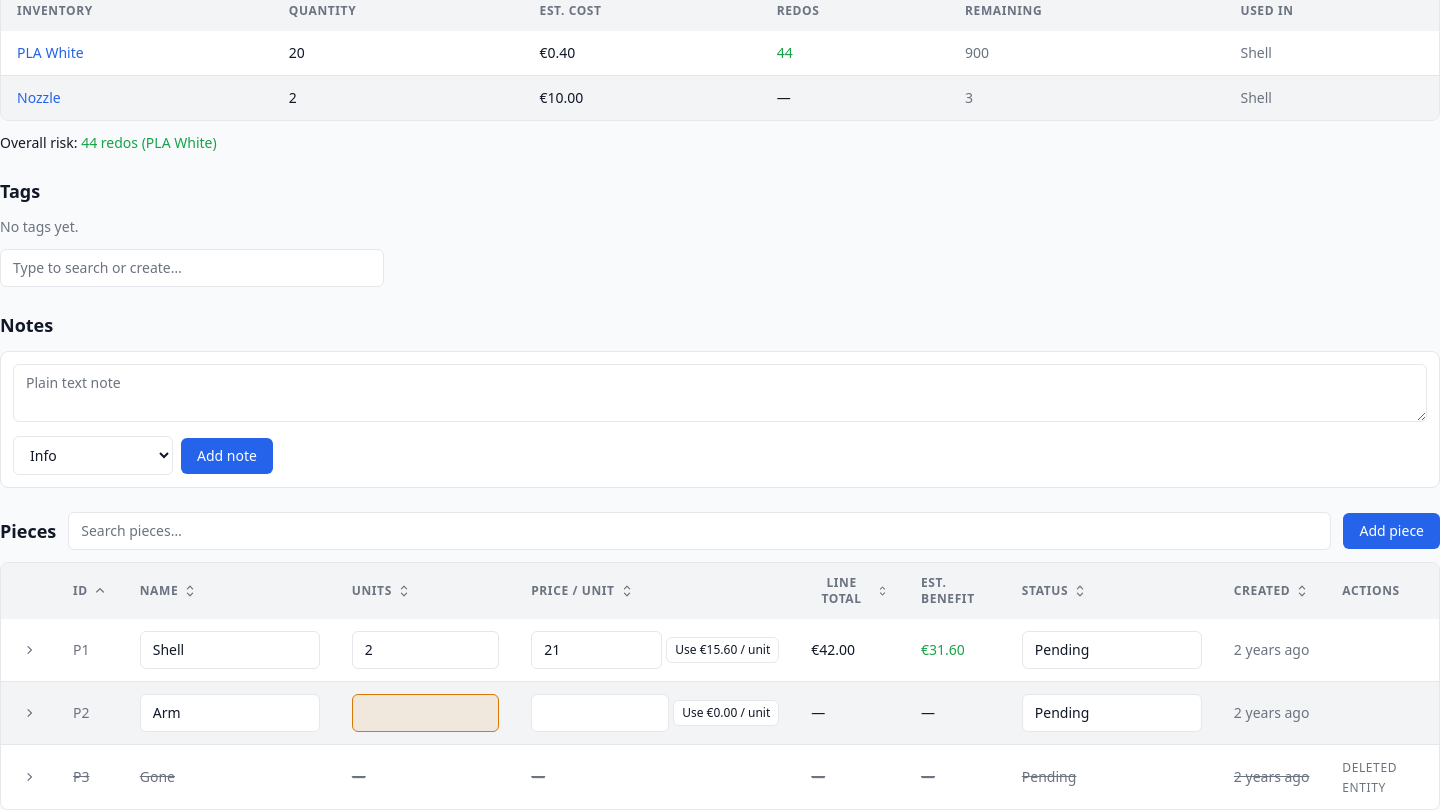
Test: JobDetailPage › computes total and benefit once every piece is priced
This screenshot has width=1440, height=810.
(page scrolled)
Type "1" into the number field with test id "piece-units-P2" at (426, 713), box [352, 694, 499, 732]
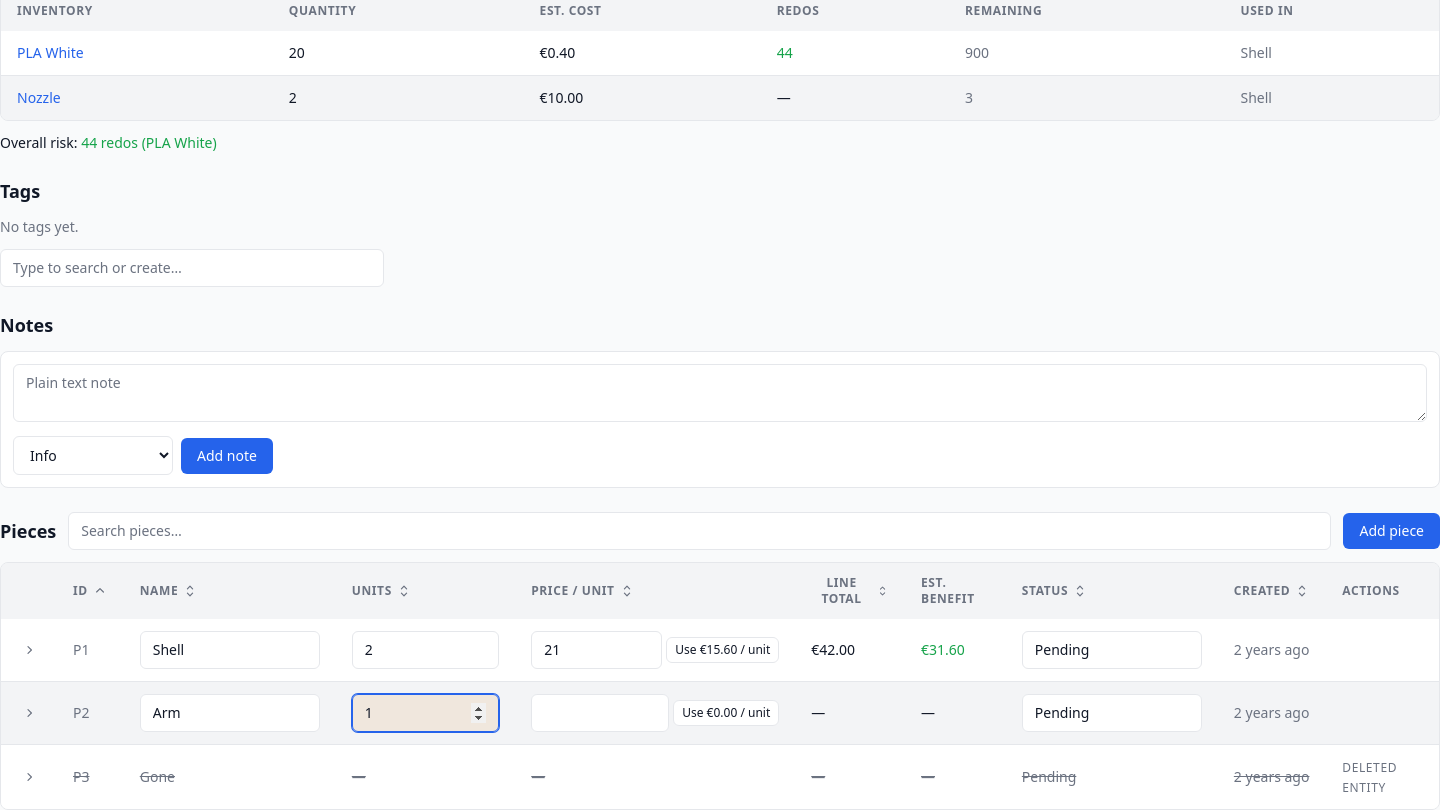
Press Tab
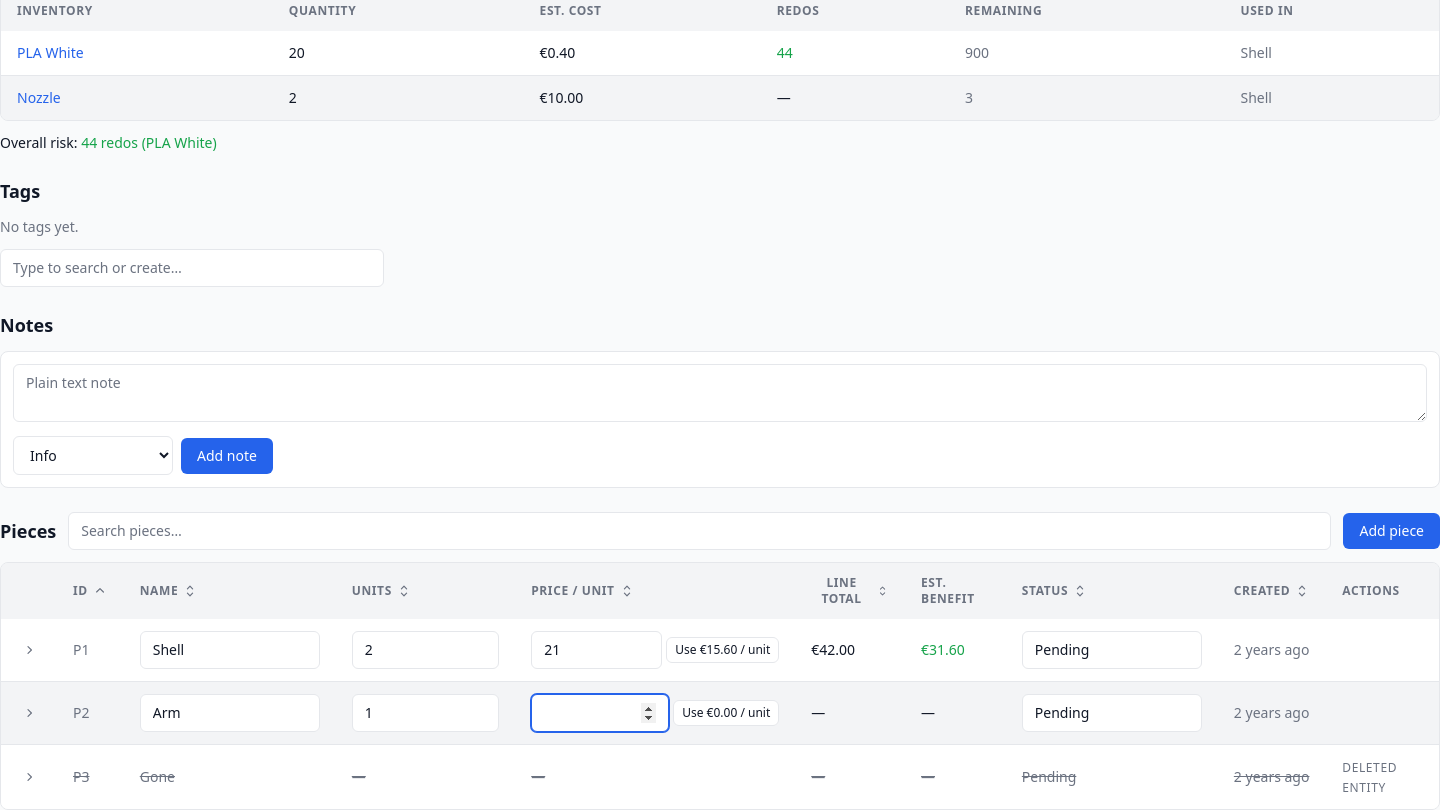
Type "8" into the number field with test id "piece-price-P2" at (600, 713), box [531, 694, 669, 732]
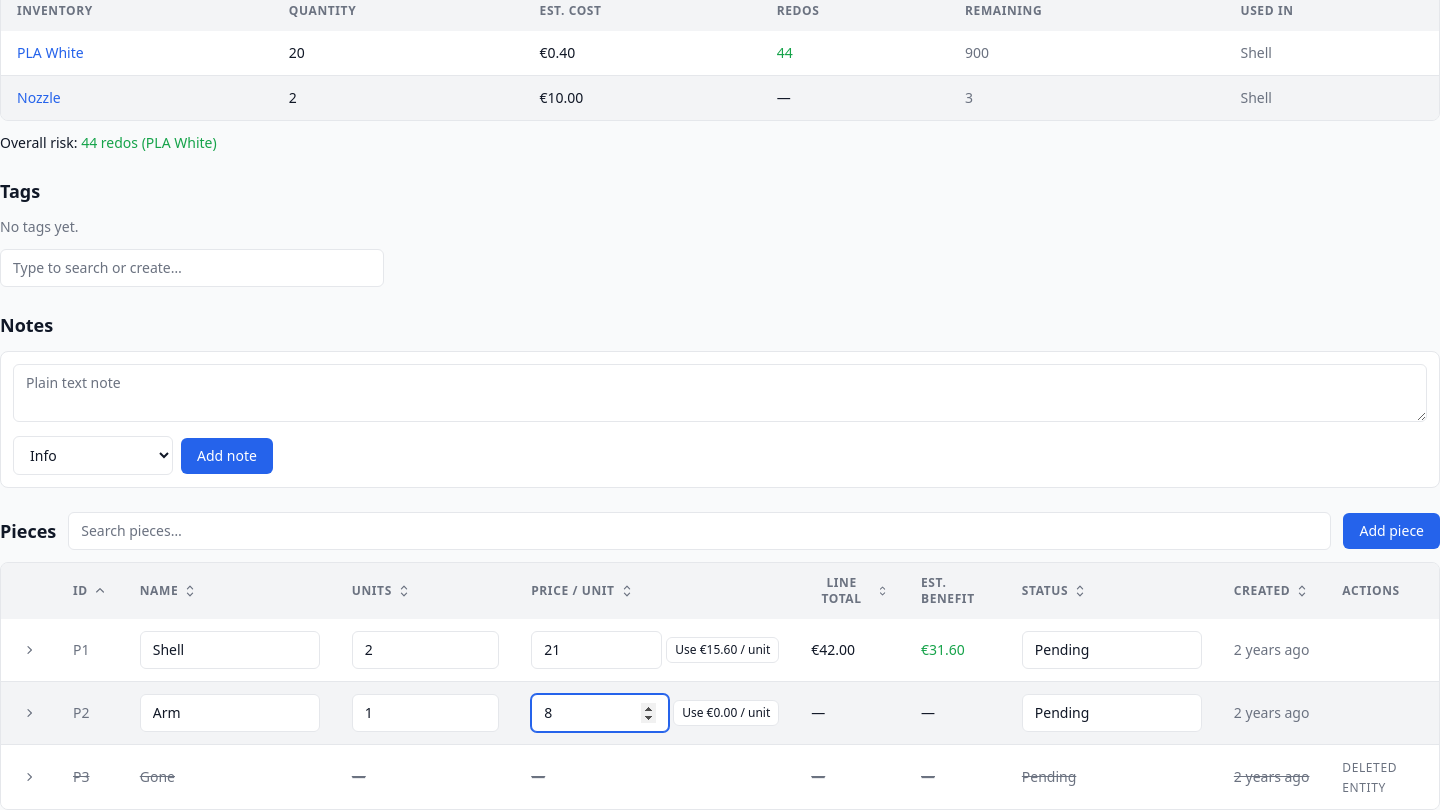
Press Tab
(page scrolled)
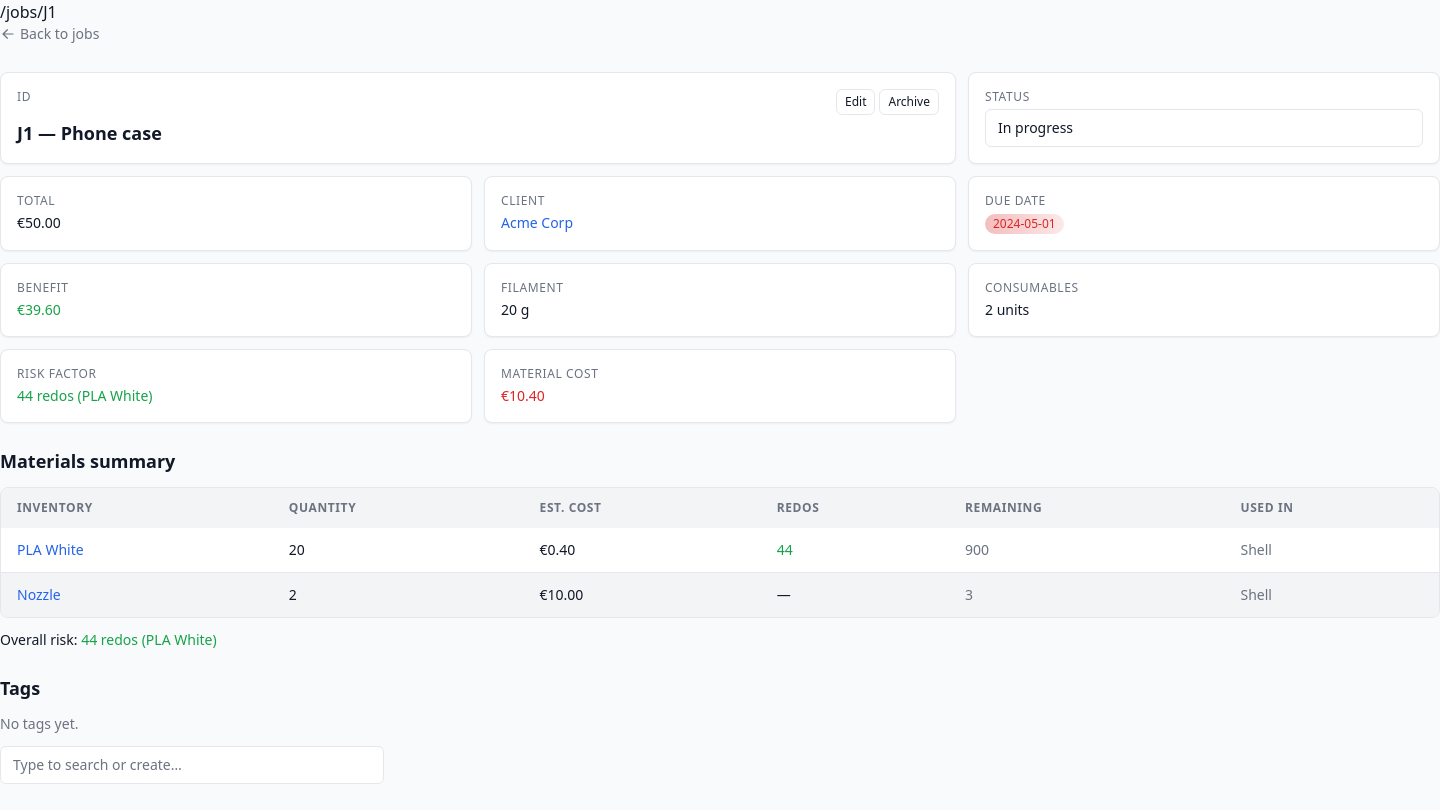
Now the element with test id "job-widget-total" shows "€50.00", box [17, 213, 61, 232]
Now the element with test id "job-widget-beneficio" shows "€39.60", box [17, 300, 61, 319]
